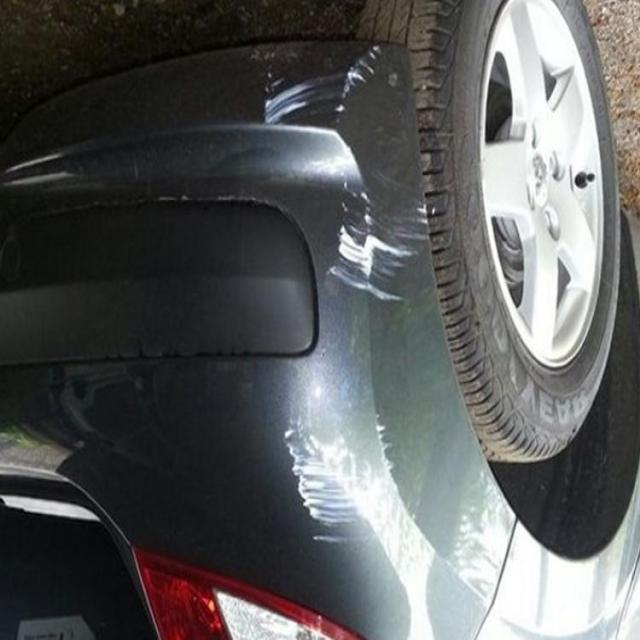scratch: (260, 30, 430, 306), (282, 420, 403, 542)
